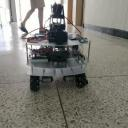cart: (25, 33, 92, 91)
